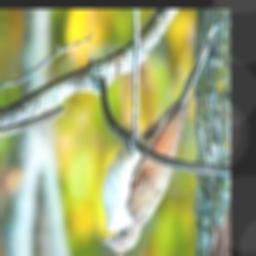Cuckoo: (101, 25, 218, 255)
